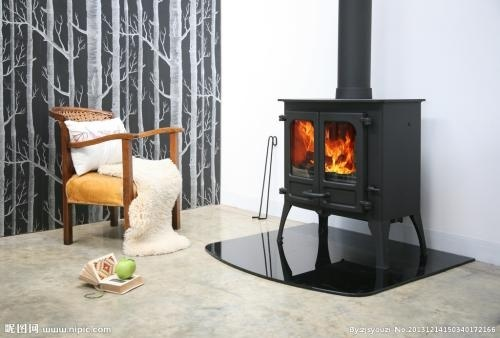fire: (322, 121, 356, 175), (294, 117, 314, 162)
